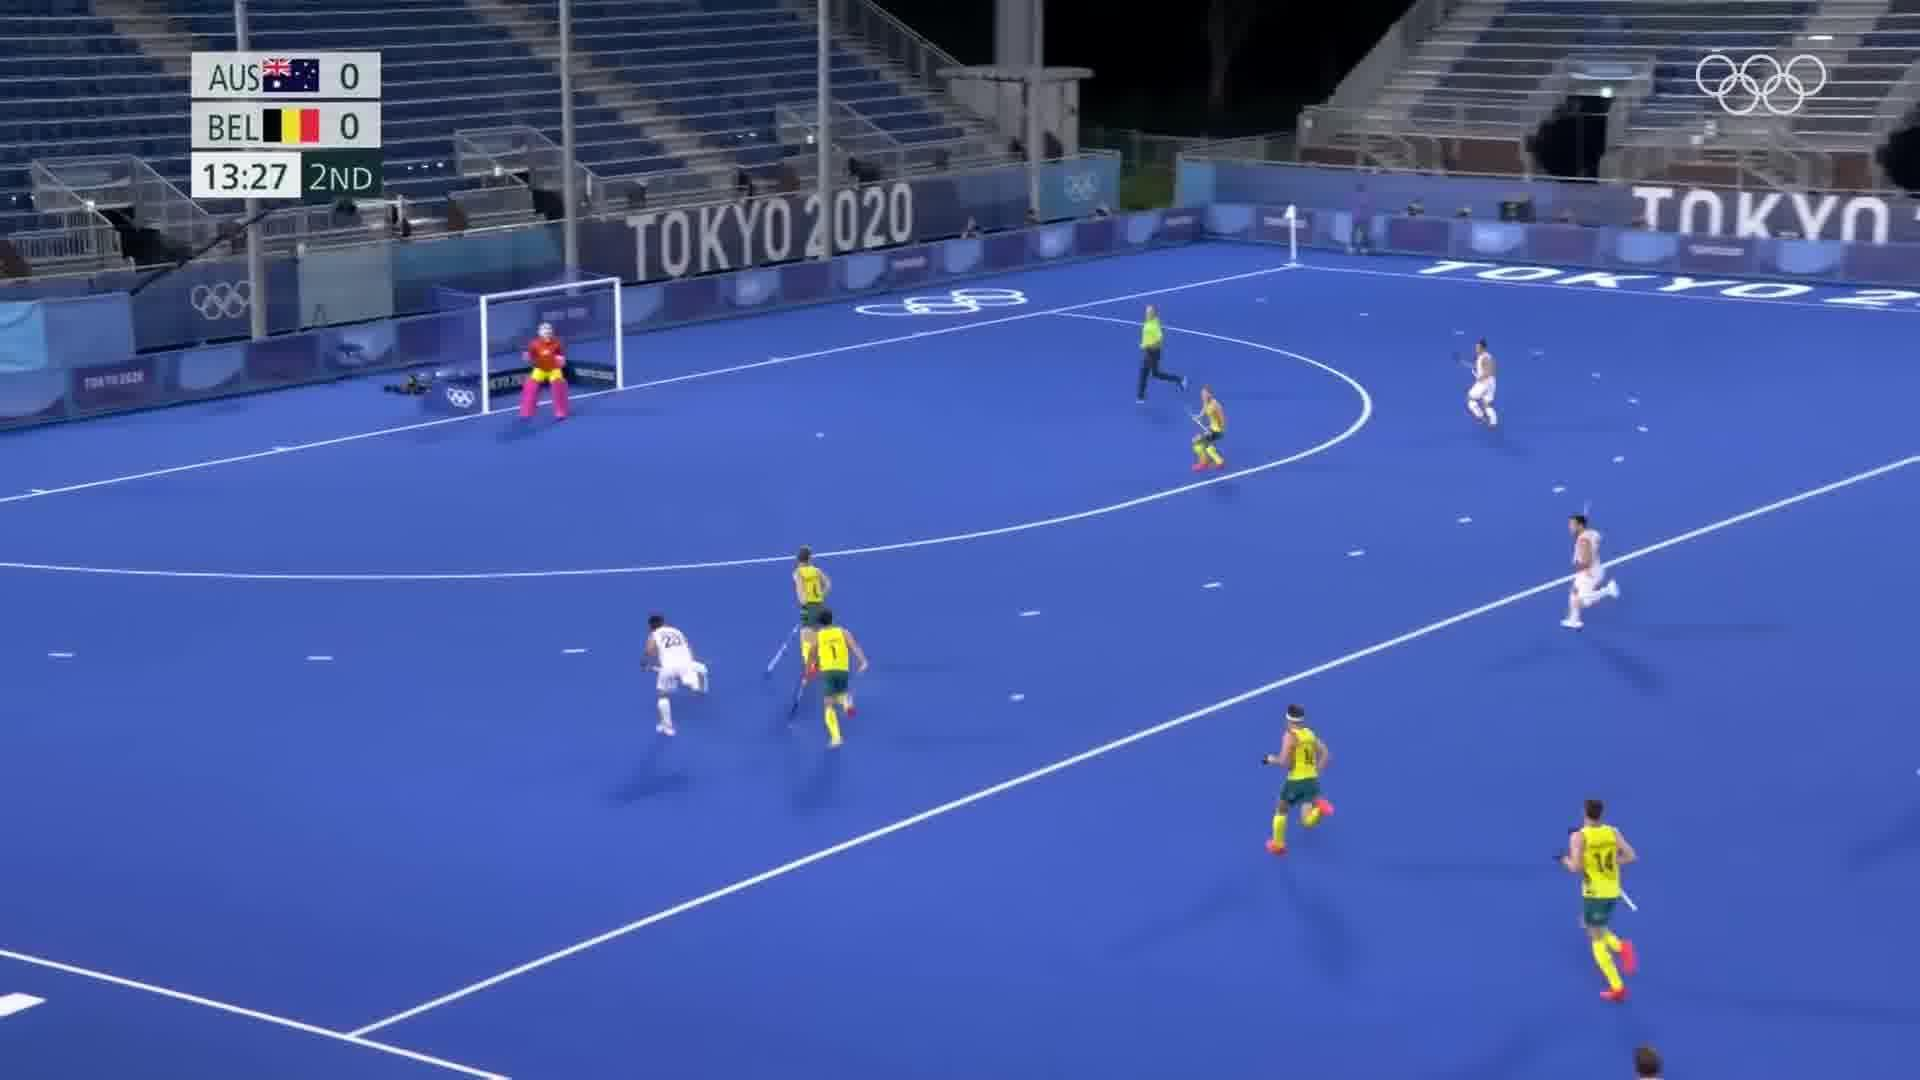ball: (1007, 688, 1030, 705)
